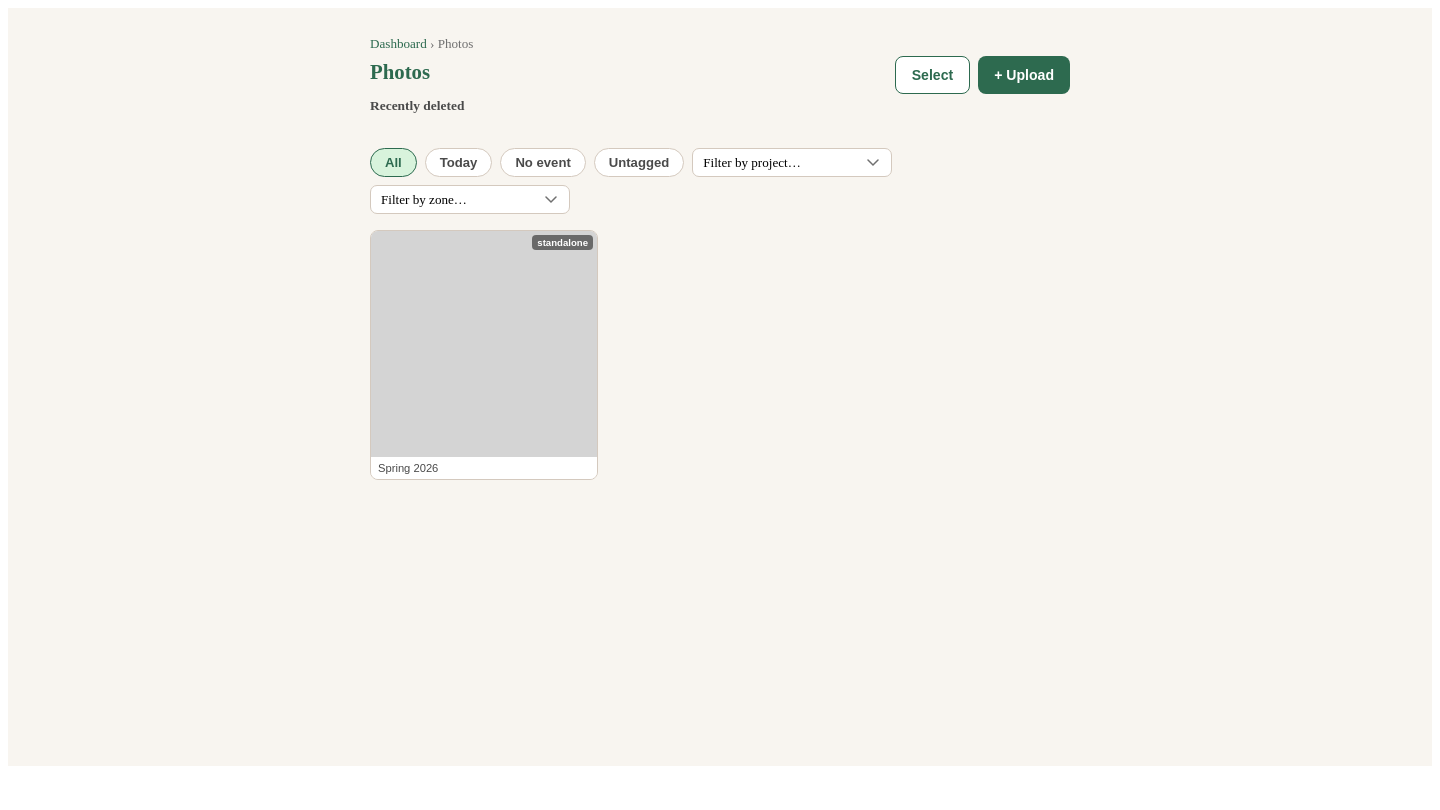
BUG-PICKERCLIP-001 — PhotoModal must not clip the planting listbox › gives the card a scrollable path instead of a hard clip
Click the button named "Garden photo" at (484, 355), box [370,230,598,480]
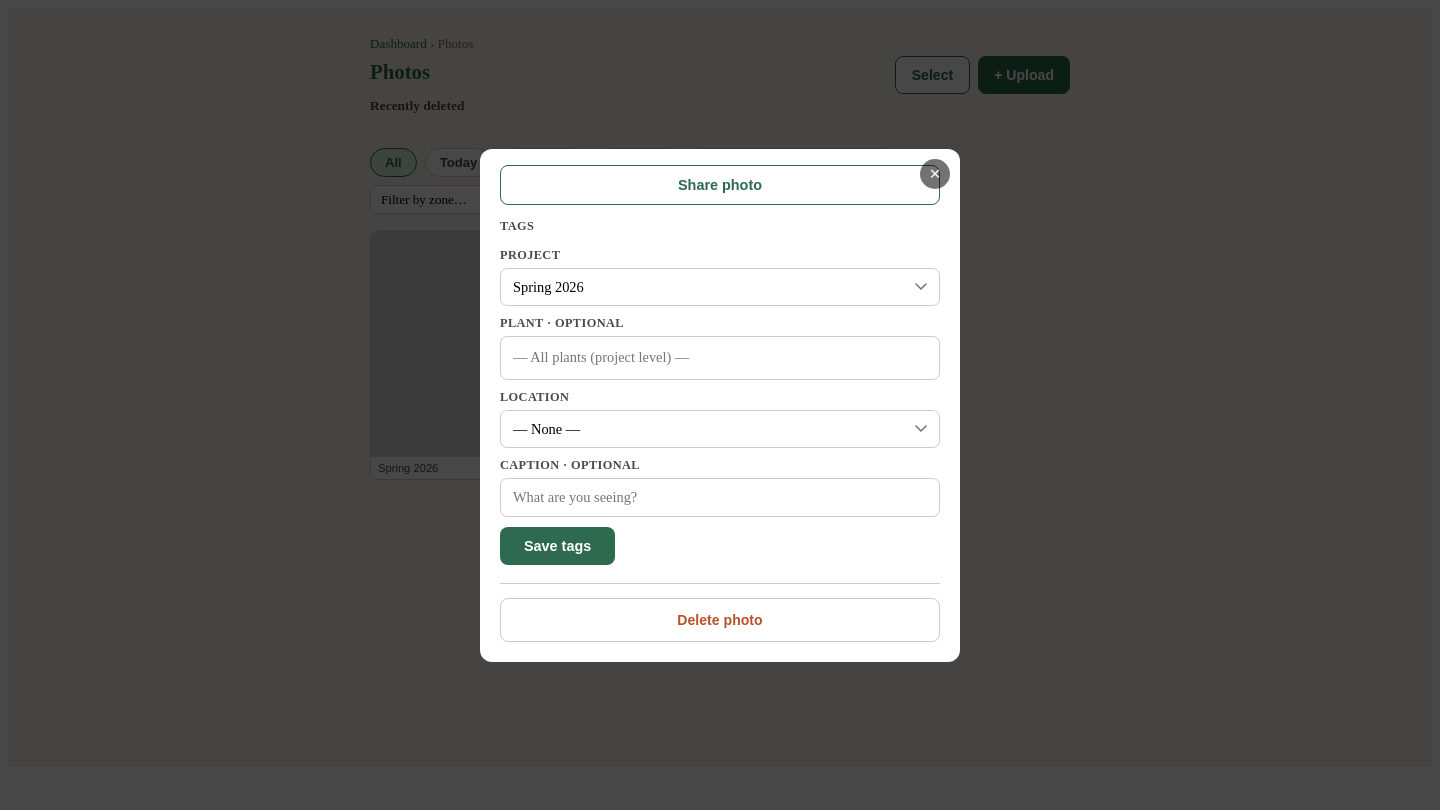
Check: the dropdown labelled "Plant · optional" is shown, box [500,336,940,380]
